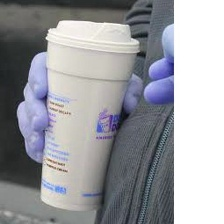paper_cup: (30, 16, 142, 216)
